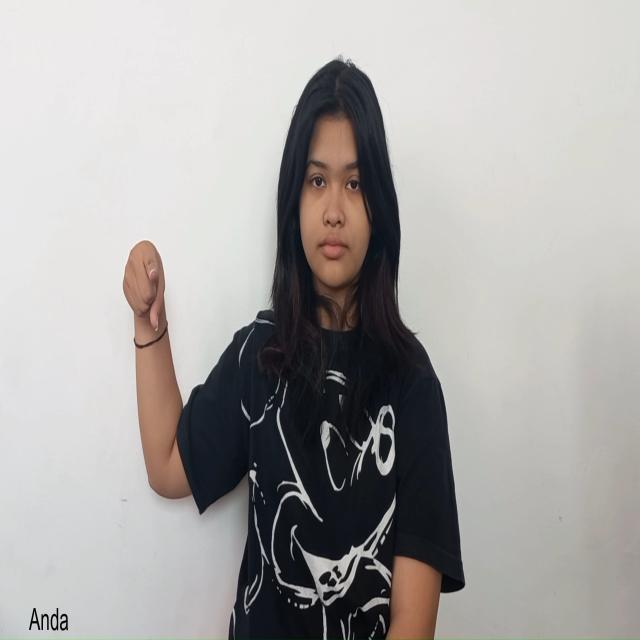Anda -BISINDO-: (122, 240, 166, 334)
